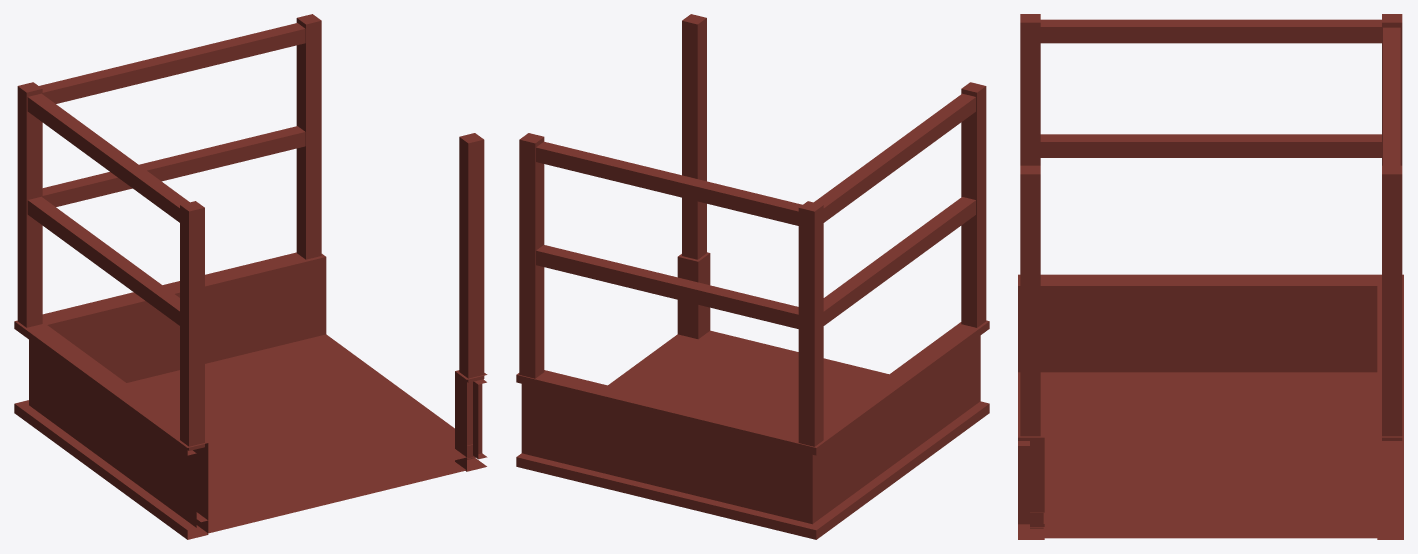
File: Walkway New 2.fbx
The picture shows the model from 3 angles, left to right: view 1: azimuth 30°, elevation 25°; view 2: azimuth 150°, elevation 25°; view 3: azimuth 270°, elevation 25°; orthographic projection. The views are drawn at different scales.
Visible parts, largest first — view 1: polySurface196; view 2: polySurface196; view 3: polySurface196.
Part boxes in pixels (<box>): polySurface196: <box>14,14,487,539</box>; polySurface196: <box>516,14,989,539</box>; polySurface196: <box>1018,14,1403,539</box>.
Bounding box in the file's own units: 129 × 134 × 129.
